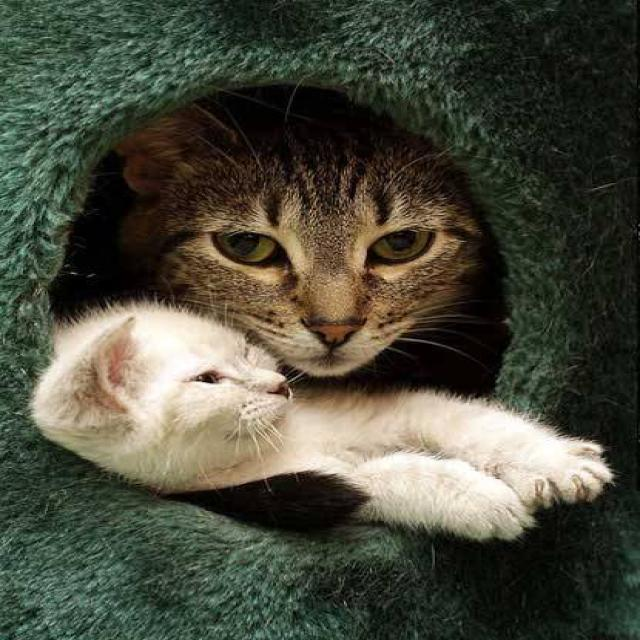cat: (25, 60, 636, 578)
